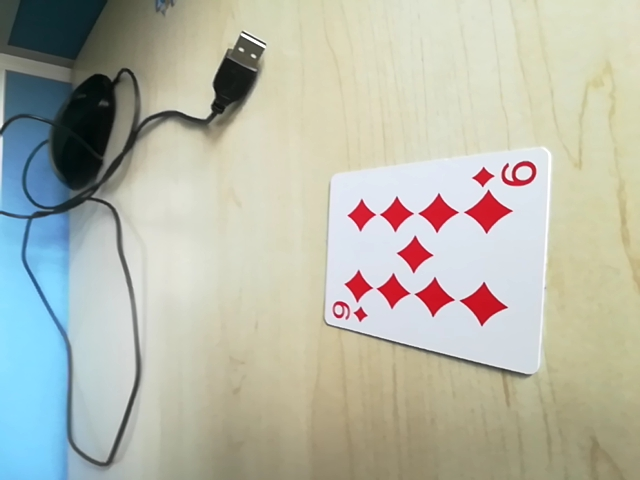fk 9: (472, 155, 539, 193), (326, 297, 372, 328)
